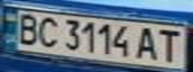1: (93, 20, 115, 56), (78, 19, 96, 54)
3: (60, 17, 81, 52)
4: (112, 23, 133, 57)
A: (133, 25, 160, 61)
B: (12, 11, 42, 46)
C: (33, 15, 60, 48)
T: (154, 26, 184, 63)
